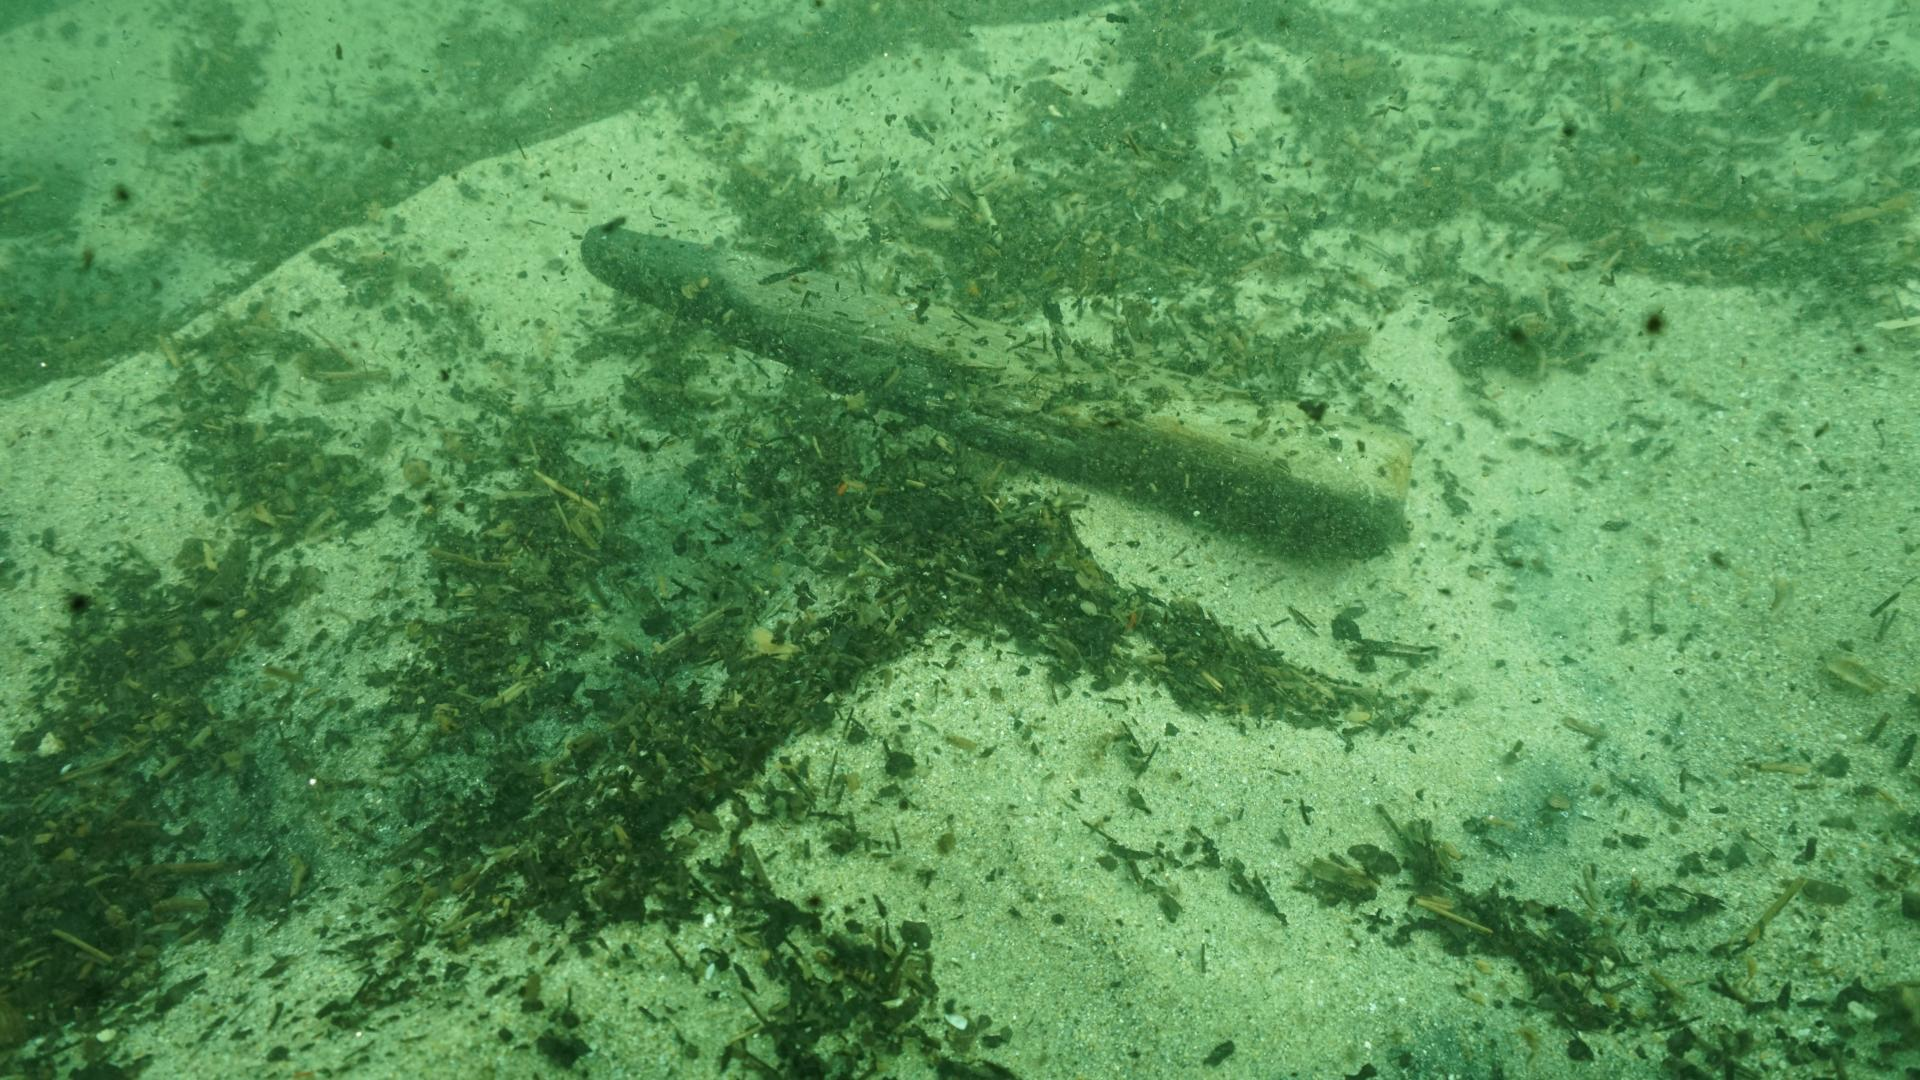wood: (579, 225, 1411, 560)
